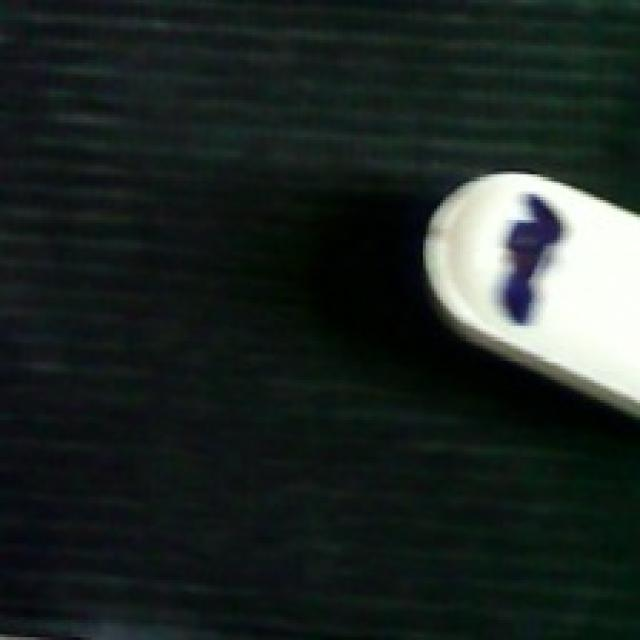defected: (414, 160, 637, 414)
